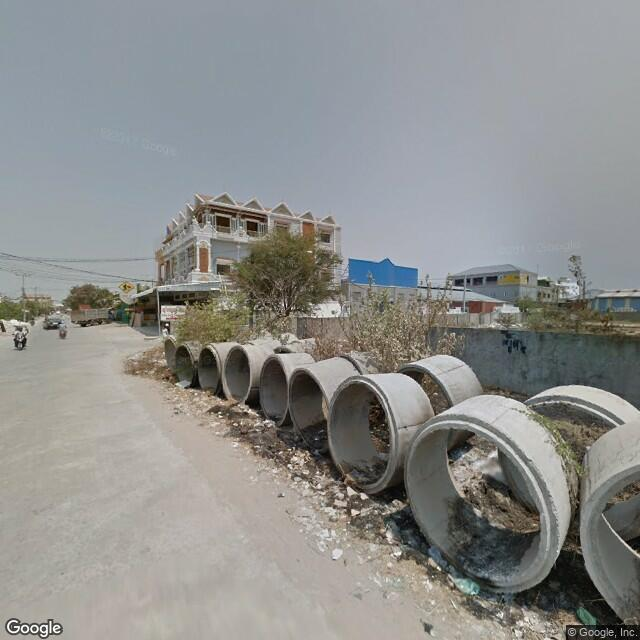litter: (324, 477, 387, 524), (566, 595, 613, 640), (376, 515, 418, 556), (449, 573, 486, 605), (287, 445, 312, 481), (323, 545, 345, 562), (176, 374, 189, 391)
